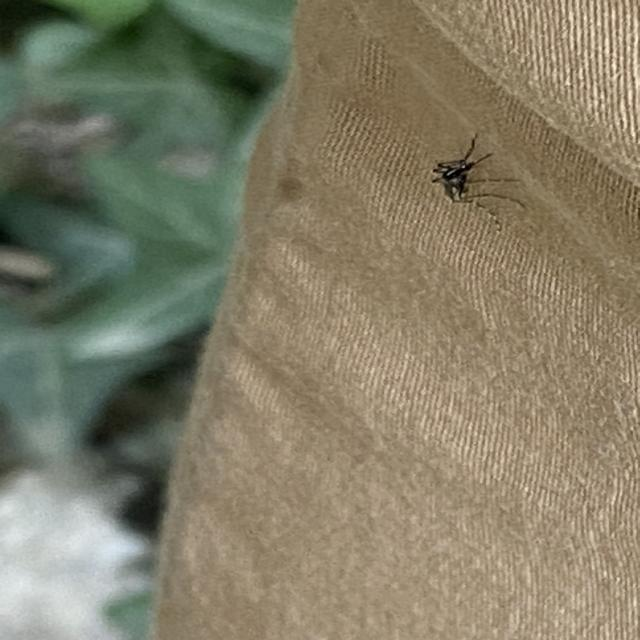albopictus: (418, 128, 530, 228)
